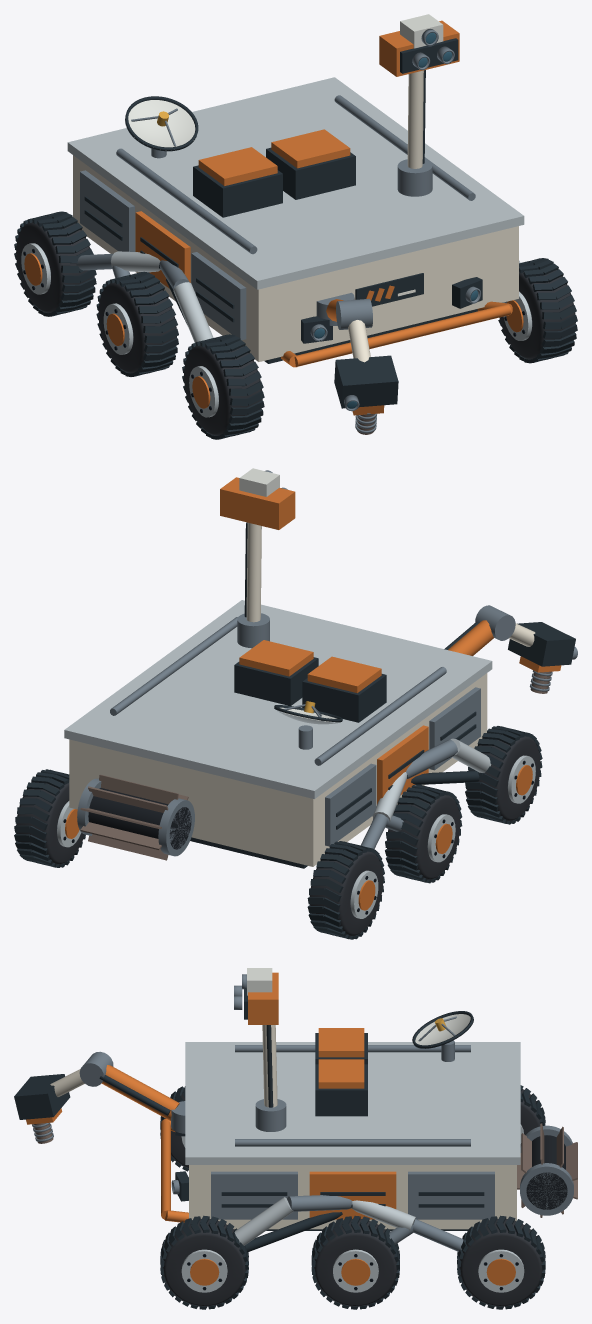
File: barkhan_6.glb
3 views of the same model, one above another, from view 1: azimuth 30°, elevation 25°; view 2: azimuth 150°, elevation 25°; view 3: azimuth 270°, elevation 25° (orthographic). The views are drawn at different scales.
Parts seen in each view (by area): view 1: barkhan_6.mesh_Satin_aluminum, barkhan_6.mesh_JUGRE_ceramic_shell, barkhan_6.mesh_Machined_steel, barkhan_6.rocker_left.bogie.knuckle_middle.wheel_middle.mesh (×3), barkhan_6.rocker_left.bogie.steer_rear.wheel_rear.mesh_JUGRE (×2), barkhan_6.mesh_JUGRE_amber_panels, barkhan_6.rocker_left.steer_front.wheel_front.mesh_JUGRE_gra, barkhan_6.rocker_right.steer_front.wheel_front.mesh_JUGRE_gr, barkhan_6.sample_case.mesh_JUGRE_graphite, barkhan_6.arm_azimuth.arm_shoulder.arm_elbow.arm_wrist.mesh_, barkhan_6.sample_transfer.mesh_JUGRE_graphite, barkhan_6.rocker_left.steer_front.wheel_front.mesh_JUGRE_fle (+20 smaller); view 2: barkhan_6.mesh_Satin_aluminum, barkhan_6.mesh_JUGRE_ceramic_shell, barkhan_6.mesh_Machined_steel, barkhan_6.rocker_left.bogie.knuckle_middle.wheel_middle.mesh (×3), barkhan_6.rocker_left.bogie.steer_rear.wheel_rear.mesh_JUGRE (×2), barkhan_6.rocker_right.bogie.steer_rear.wheel_rear.mesh_JUGR (×2), barkhan_6.rear_power_unit.mesh_Heat-stained_alloy, barkhan_6.rocker_left.steer_front.wheel_front.mesh_JUGRE_gra, barkhan_6.mast_deployment.camera_azimuth.camera_elevation.me, barkhan_6.rear_power_unit.mesh_Carbon_composite, barkhan_6.sample_case.mesh_JUGRE_graphite, barkhan_6.sample_transfer.mesh_JUGRE_graphite (+18 smaller); view 3: barkhan_6.mesh_Satin_aluminum, barkhan_6.mesh_Machined_steel, barkhan_6.rocker_right.bogie.knuckle_middle.wheel_middle.mes (×4), barkhan_6.mesh_JUGRE_ceramic_shell, barkhan_6.rocker_right.bogie.steer_rear.wheel_rear.mesh_JUGR (×3), barkhan_6.mesh_JUGRE_amber_panels, barkhan_6.rocker_right.steer_front.wheel_front.mesh_JUGRE_fl, barkhan_6.rocker_right.mesh_Satin_aluminum, barkhan_6.rear_power_unit.mesh_Machined_steel, barkhan_6.rear_power_unit.mesh_Carbon_composite, barkhan_6.rocker_right.steer_front.wheel_front.mesh_JUGRE_gr, barkhan_6.arm_azimuth.arm_shoulder.arm_elbow.arm_wrist.mesh_ (+22 smaller).
Boxes of the visible parts, left/top/right/bottom form: barkhan_6.mesh_Satin_aluminum: left=67, top=77, right=524, bottom=289; barkhan_6.mesh_JUGRE_ceramic_shell: left=73, top=155, right=518, bottom=361; barkhan_6.mesh_Machined_steel: left=80, top=95, right=475, bottom=340; barkhan_6.rocker_left.bogie.knuckle_middle.wheel_middle.mesh (×3): left=96, top=271, right=178, bottom=376; barkhan_6.rocker_left.bogie.steer_rear.wheel_rear.mesh_JUGRE (×2): left=14, top=211, right=96, bottom=316; barkhan_6.mesh_JUGRE_amber_panels: left=135, top=211, right=512, bottom=367; barkhan_6.rocker_left.steer_front.wheel_front.mesh_JUGRE_gra: left=182, top=334, right=264, bottom=439; barkhan_6.rocker_right.steer_front.wheel_front.mesh_JUGRE_gr: left=498, top=258, right=577, bottom=363; barkhan_6.sample_case.mesh_JUGRE_graphite: left=193, top=165, right=282, bottom=217; barkhan_6.arm_azimuth.arm_shoulder.arm_elbow.arm_wrist.mesh_: left=334, top=355, right=398, bottom=408; barkhan_6.sample_transfer.mesh_JUGRE_graphite: left=266, top=147, right=355, bottom=199; barkhan_6.rocker_left.steer_front.wheel_front.mesh_JUGRE_fle: left=184, top=344, right=262, bottom=435; barkhan_6.mesh_Satin_aluminum: left=64, top=600, right=492, bottom=798; barkhan_6.mesh_JUGRE_ceramic_shell: left=69, top=673, right=487, bottom=866; barkhan_6.mesh_Machined_steel: left=110, top=617, right=480, bottom=846; barkhan_6.rocker_left.bogie.knuckle_middle.wheel_middle.mesh (×3): left=385, top=784, right=462, bottom=883; barkhan_6.rocker_left.bogie.steer_rear.wheel_rear.mesh_JUGRE (×2): left=307, top=841, right=384, bottom=939; barkhan_6.rocker_right.bogie.steer_rear.wheel_rear.mesh_JUGR (×2): left=14, top=769, right=85, bottom=867; barkhan_6.rear_power_unit.mesh_Heat-stained_alloy: left=80, top=774, right=188, bottom=860; barkhan_6.rocker_left.steer_front.wheel_front.mesh_JUGRE_gra: left=465, top=726, right=542, bottom=824; barkhan_6.mast_deployment.camera_azimuth.camera_elevation.me: left=220, top=477, right=295, bottom=529; barkhan_6.rear_power_unit.mesh_Carbon_composite: left=88, top=788, right=191, bottom=849; barkhan_6.sample_case.mesh_JUGRE_graphite: left=302, top=674, right=386, bottom=722; barkhan_6.sample_transfer.mesh_JUGRE_graphite: left=234, top=657, right=318, bottom=705; barkhan_6.mesh_Satin_aluminum: left=185, top=1042, right=520, bottom=1164; barkhan_6.mesh_Machined_steel: left=211, top=1045, right=494, bottom=1219; barkhan_6.rocker_right.bogie.knuckle_middle.wheel_middle.mes (×4): left=311, top=1215, right=399, bottom=1309; barkhan_6.mesh_JUGRE_ceramic_shell: left=189, top=1165, right=516, bottom=1229; barkhan_6.rocker_right.bogie.steer_rear.wheel_rear.mesh_JUGR (×3): left=457, top=1215, right=545, bottom=1309; barkhan_6.mesh_JUGRE_amber_panels: left=161, top=1119, right=396, bottom=1222; barkhan_6.rocker_right.steer_front.wheel_front.mesh_JUGRE_fl: left=162, top=1219, right=246, bottom=1306; barkhan_6.rocker_right.mesh_Satin_aluminum: left=234, top=1197, right=415, bottom=1245; barkhan_6.rear_power_unit.mesh_Machined_steel: left=520, top=1125, right=573, bottom=1215; barkhan_6.rear_power_unit.mesh_Carbon_composite: left=526, top=1135, right=567, bottom=1209; barkhan_6.rocker_right.steer_front.wheel_front.mesh_JUGRE_gr: left=160, top=1215, right=248, bottom=1309; barkhan_6.arm_azimuth.arm_shoulder.arm_elbow.arm_wrist.mesh_: left=14, top=1074, right=70, bottom=1119.
Size of the model in its own units: 2.57 by 2.26 by 3.95.
